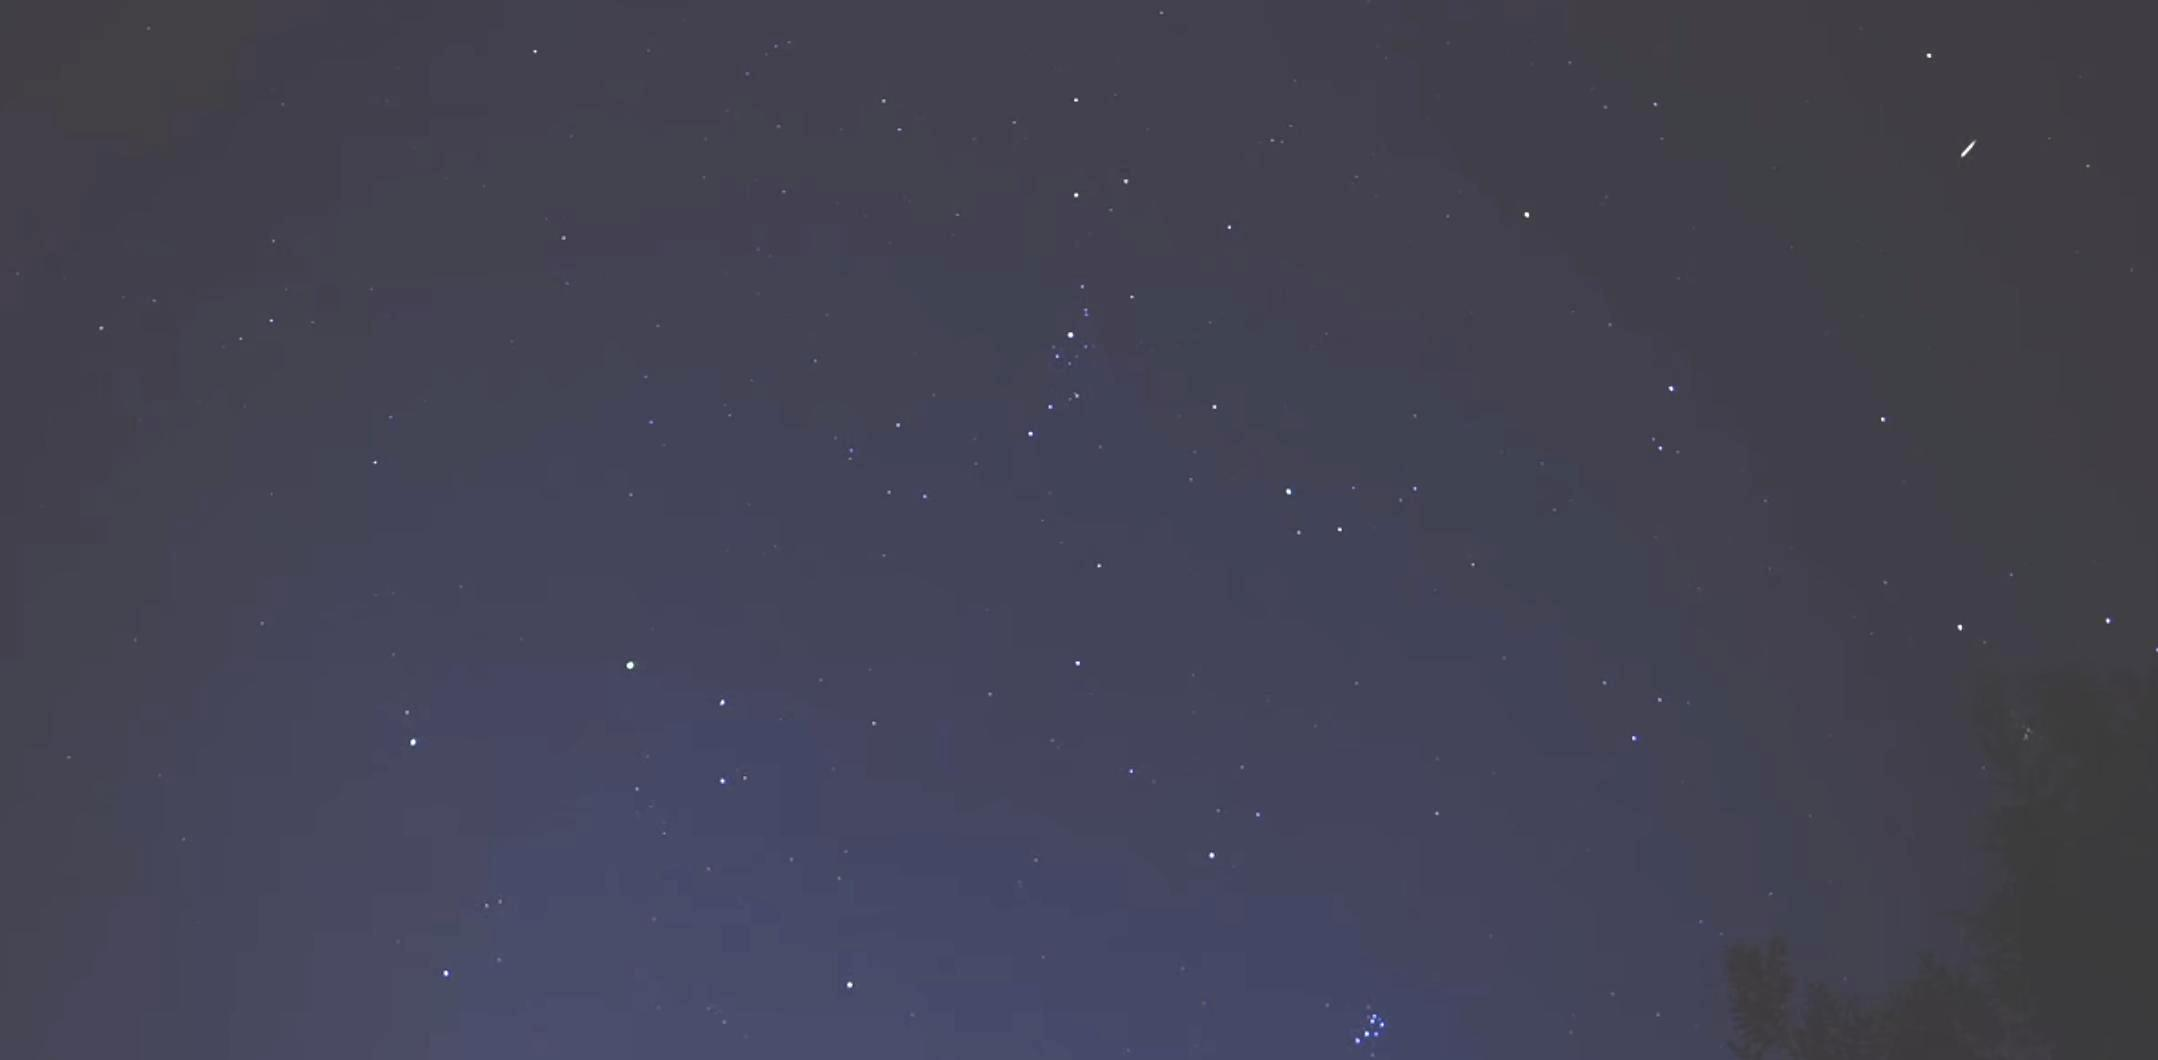meteorite: (1920, 129, 2018, 168)
